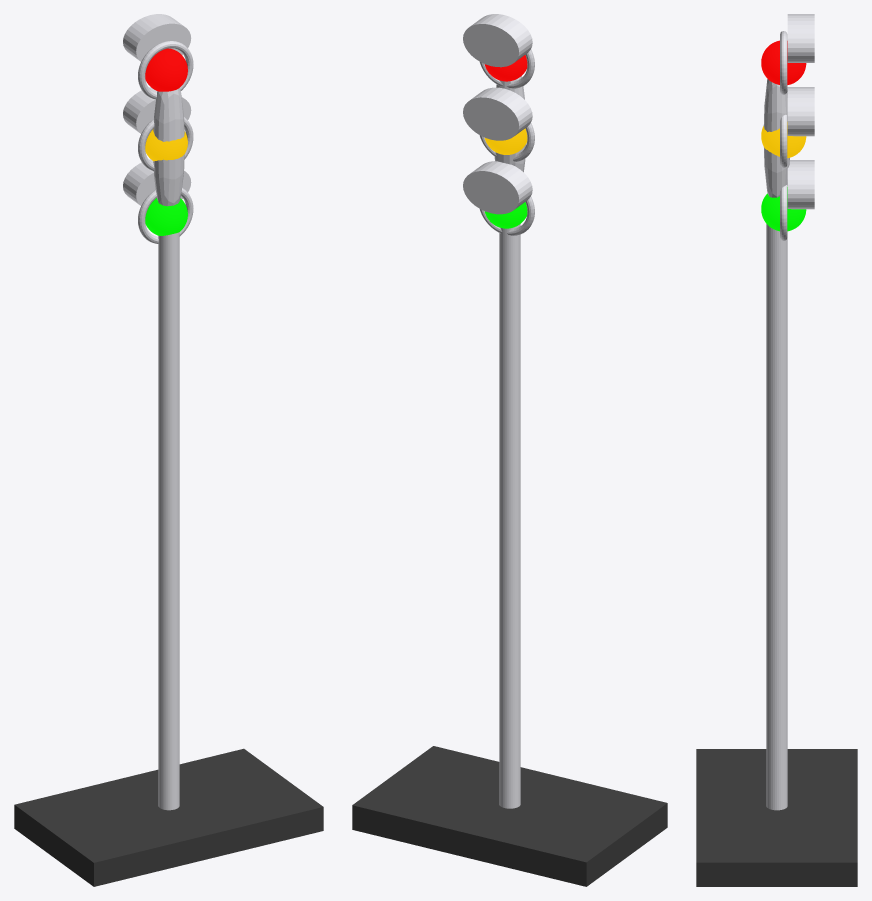
3 views of the same model, side by side, from view 1: azimuth 30°, elevation 25°; view 2: azimuth 150°, elevation 25°; view 3: azimuth 270°, elevation 25° (orthographic). The views are drawn at different scales.
Visible parts, largest first — view 1: object 1, object 9, Cylinder.001, object 5, Cylinder.002, Cylinder.003, Torus, Torus.002, Torus.001; view 2: object 1, Cylinder.002, Cylinder.001, Cylinder.003, object 9; view 3: object 1, object 9, Cylinder.002, Cylinder.003, Cylinder.001, object 5, Torus, Torus.002, Torus.001.
Part boxes in pixels (bbox=[...]): object 1: bbox=[14, 88, 323, 886]; object 9: bbox=[145, 129, 187, 235]; Cylinder.001: bbox=[123, 14, 191, 61]; object 5: bbox=[145, 48, 187, 91]; Cylinder.002: bbox=[123, 87, 191, 133]; Cylinder.003: bbox=[123, 159, 191, 205]; Torus: bbox=[138, 41, 193, 99]; Torus.002: bbox=[138, 188, 193, 243]; Torus.001: bbox=[138, 117, 193, 170]; object 1: bbox=[352, 76, 667, 886]; Cylinder.002: bbox=[463, 87, 532, 140]; Cylinder.001: bbox=[463, 14, 532, 67]; Cylinder.003: bbox=[463, 161, 532, 214]; object 9: bbox=[484, 128, 527, 228]; object 1: bbox=[696, 79, 857, 886]; object 9: bbox=[761, 122, 806, 231]; Cylinder.002: bbox=[787, 87, 814, 136]; Cylinder.003: bbox=[787, 160, 814, 209]; Cylinder.001: bbox=[787, 14, 814, 62]; object 5: bbox=[761, 40, 806, 85]; Torus: bbox=[780, 31, 787, 94]; Torus.002: bbox=[780, 184, 787, 240]; Torus.001: bbox=[780, 114, 787, 167].
Size of the model in its own units: 1 by 3.33 by 0.6001.
